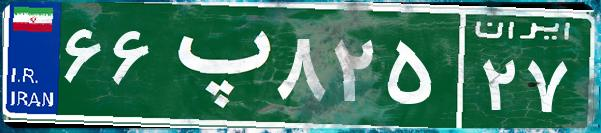2: (330, 28, 385, 110), (475, 38, 525, 113)
5: (385, 28, 445, 110)
6: (57, 26, 110, 107), (110, 28, 158, 105)
7: (525, 38, 570, 115)
8: (273, 28, 330, 110)
پ: (158, 15, 273, 115)
